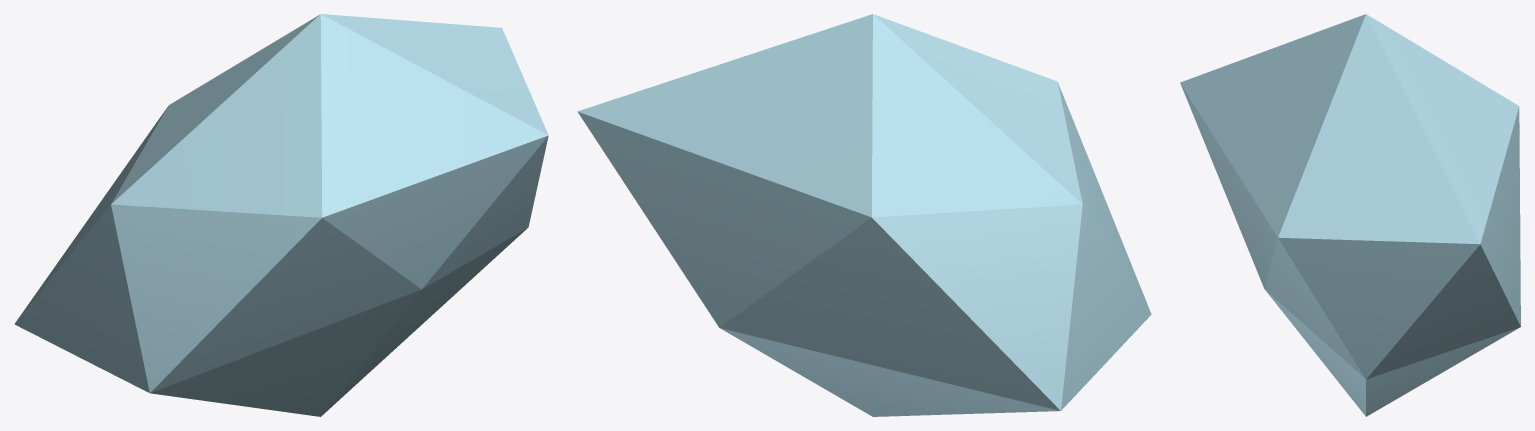
The model's file is ShieldWallShard.fbx.
The picture shows the model from 3 angles, left to right: view 1: azimuth 30°, elevation 25°; view 2: azimuth 150°, elevation 25°; view 3: azimuth 270°, elevation 25°; orthographic projection.
Parts seen in each view (by area): view 1: shard_ice; view 2: shard_ice; view 3: shard_ice.
Boxes of the visible parts, x1,y1,x2,y2 form: shard_ice: (14,14,548,416); shard_ice: (577,14,1151,416); shard_ice: (1180,14,1520,416).
Size of the model in its own units: 0.2439 by 0.1933 by 0.1483.
